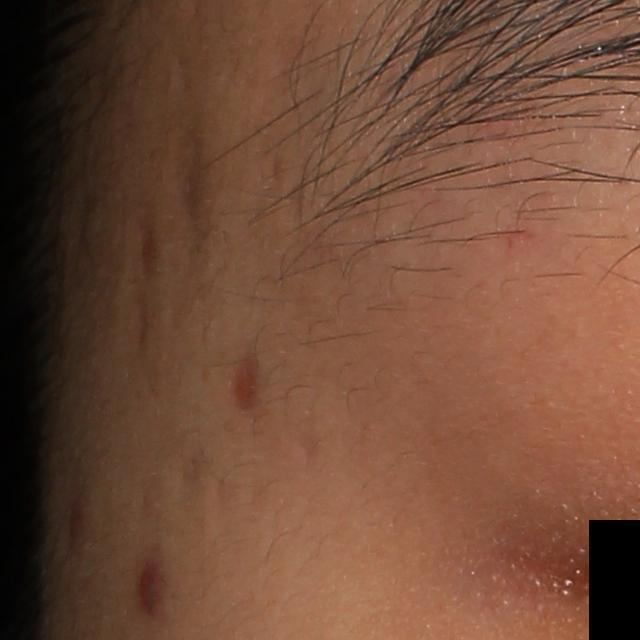atrophic_scar: (162, 67, 210, 240), (123, 211, 159, 363), (227, 345, 256, 413)
